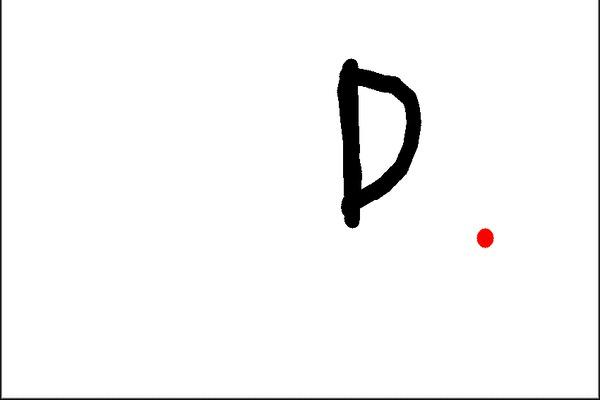D: (329, 54, 426, 230)
